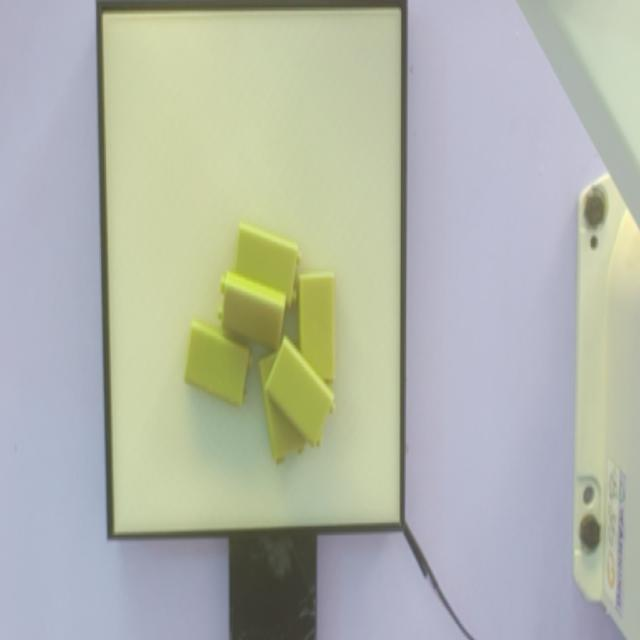bateria: (264, 340, 336, 449), (184, 321, 252, 406)
mesa: (97, 0, 407, 538)
